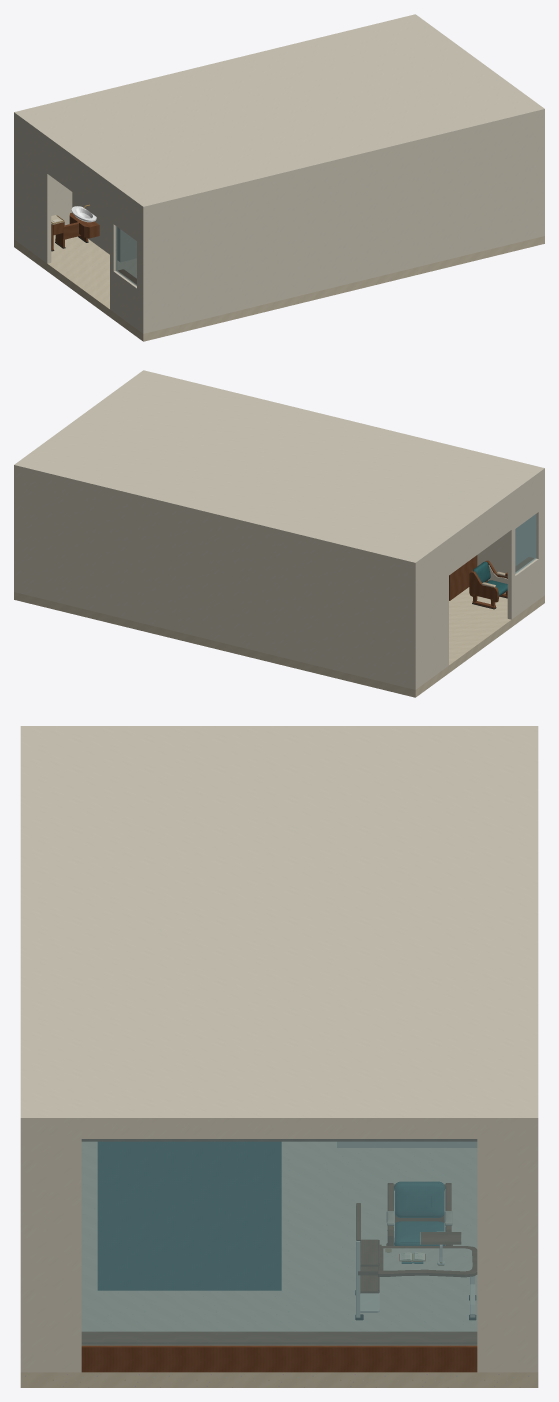
The model's file is QuietGroveSpecialty_123_r001.glb.
3 views of the same model, one above another, from view 1: azimuth 30°, elevation 25°; view 2: azimuth 150°, elevation 25°; view 3: azimuth 270°, elevation 25° (orthographic). The views are drawn at different scales.
Parts seen in each view (by area): view 1: QG123_Ceiling, QG123_NorthSide, QG123_RoomFloor, QG123_EntryShoulderSouth, QG123_EntryHeader, QG123_StreetWindowLower, QG123_StreetWindowUpper, QG123_SouthSide, QG123_ScreenedStreetGlass, QG123_WashEntrySide, QG123_QG123_WashBasin__VAN_WallCabinet; view 2: QG123_Ceiling, QG123_SouthSide, QG123_RoomFloor, QG123_EntryShoulderSouth, QG123_EntryHeader, QG123_NorthSide, QG123_StreetWindowLower, QG123_StreetWindowUpper, QG123_ScreenedStreetGlass, QG123_EntryPrivacyDogleg, QG123_QG123_StreetReadingChair__DAY_CHAIR_L_swept_walnut_che, QG123_StreetWindowInnerMullion; view 3: QG123_Ceiling, QG123_CourtPanoramicGlass, QG123_RoomFloor, QG123_Cocoon01_RearLiner, QG123_CourtJambNorth, QG123_CourtJambSouth, QG123_CourtSill, QG123_CourtHeader, QG123_CourtRevealBottom, QG123_NorthSide, QG123_SouthSide, QG123_QG123_DayReadingChair__DAY_CHAIR_single_reclined_back (+5 smaller).
Part boxes in pixels (x1,y1,x2,y2): QG123_Ceiling: (14, 14, 544, 211); QG123_NorthSide: (141, 114, 544, 333); QG123_RoomFloor: (14, 235, 544, 341); QG123_EntryShoulderSouth: (16, 119, 51, 263); QG123_EntryHeader: (46, 141, 110, 219); QG123_StreetWindowLower: (110, 269, 141, 331); QG123_StreetWindowUpper: (110, 188, 141, 243); QG123_SouthSide: (14, 117, 72, 240); QG123_ScreenedStreetGlass: (115, 226, 136, 285); QG123_WashEntrySide: (72, 192, 123, 261); QG123_QG123_WashBasin__VAN_WallCabinet: (69, 213, 99, 238); QG123_Ceiling: (14, 370, 544, 567); QG123_SouthSide: (14, 470, 417, 689); QG123_RoomFloor: (14, 587, 544, 697); QG123_EntryShoulderSouth: (417, 544, 448, 687); QG123_EntryHeader: (449, 497, 512, 575); QG123_NorthSide: (477, 473, 544, 596); QG123_StreetWindowLower: (507, 556, 542, 619); QG123_StreetWindowUpper: (510, 475, 542, 531); QG123_ScreenedStreetGlass: (515, 514, 536, 573); QG123_EntryPrivacyDogleg: (449, 555, 477, 600); QG123_QG123_StreetReadingChair__DAY_CHAIR_L_swept_walnut_che: (469, 571, 498, 602); QG123_StreetWindowInnerMullion: (507, 529, 515, 578); QG123_Ceiling: (20, 726, 538, 1128); QG123_CourtPanoramicGlass: (81, 1139, 477, 1345); QG123_RoomFloor: (20, 1142, 538, 1387); QG123_Cocoon01_RearLiner: (102, 1142, 276, 1290); QG123_CourtJambNorth: (477, 1124, 538, 1372); QG123_CourtJambSouth: (20, 1124, 81, 1372); QG123_CourtSill: (81, 1344, 477, 1372); QG123_CourtHeader: (81, 1124, 477, 1138); QG123_CourtRevealBottom: (82, 1332, 476, 1343); QG123_NorthSide: (20, 1128, 29, 1372); QG123_SouthSide: (529, 1128, 538, 1372); QG123_QG123_DayReadingChair__DAY_CHAIR_single_reclined_back: (394, 1182, 444, 1217).
Bounding box in the file's own units: 12.9 × 4.14 × 7.2.
64 materials, 49 textured.
